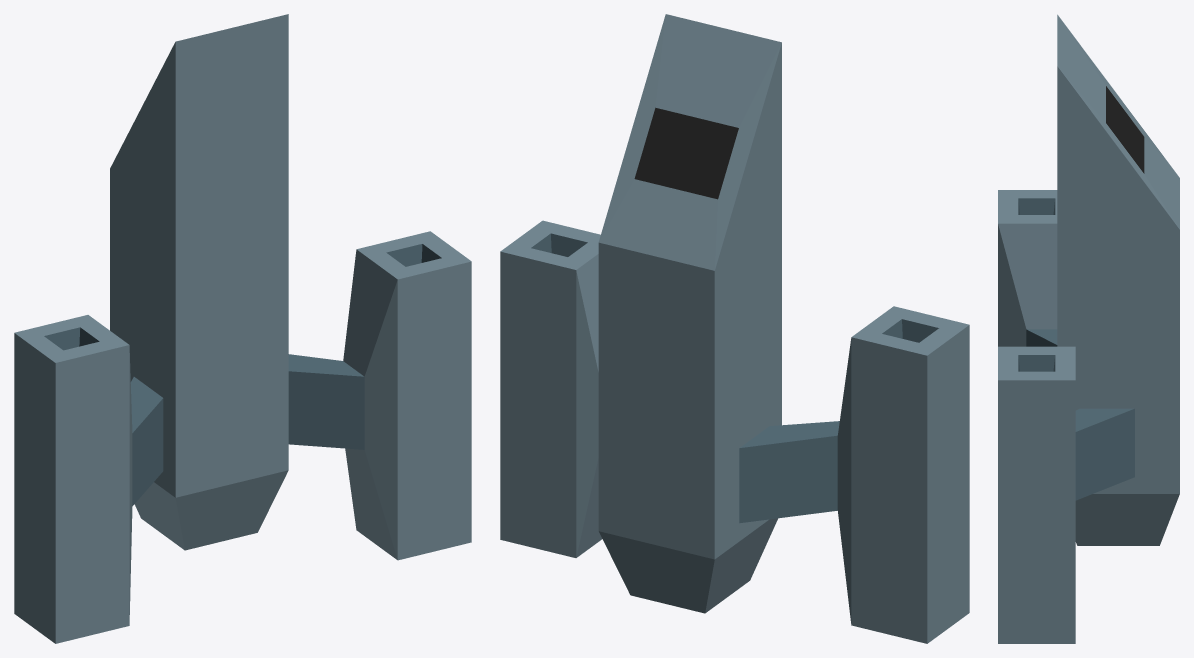
The model's file is Oberth.fbx.
3 views of the same model, side by side, from view 1: azimuth 30°, elevation 25°; view 2: azimuth 150°, elevation 25°; view 3: azimuth 270°, elevation 25° (orthographic). The views are drawn at different scales.
Visible parts, largest first — view 1: Oberth; view 2: Oberth; view 3: Oberth.
Boxes of the visible parts, x1=… form: Oberth: x1=14, y1=14, x2=471, y2=643; Oberth: x1=500, y1=14, x2=969, y2=643; Oberth: x1=998, y1=14, x2=1179, y2=643.
Size of the model in its own units: 734 by 914 by 296.
